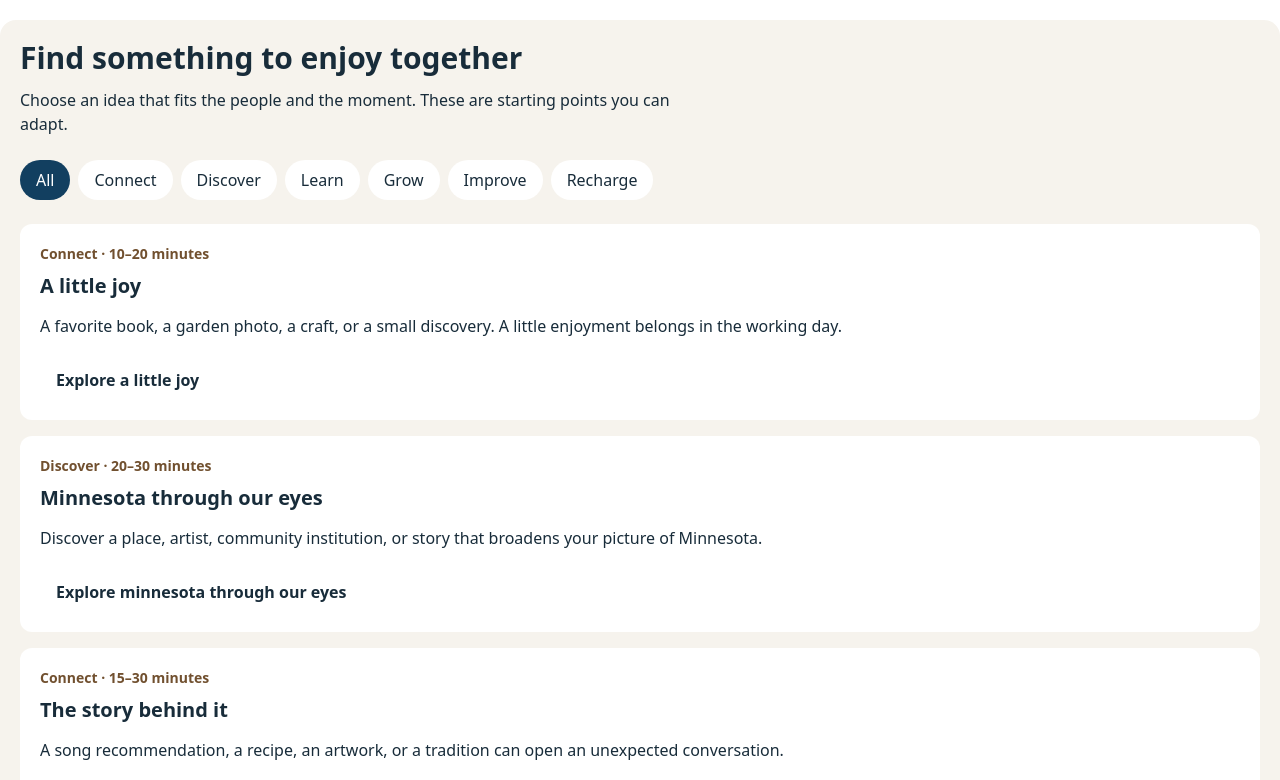
Test case: Amplify tools › filters activities and creates an invitation without inventing event details
The image size is (1280, 780).
Click the button "Grow": coordinates (404, 180) [368,160,440,200]
(page scrolled)
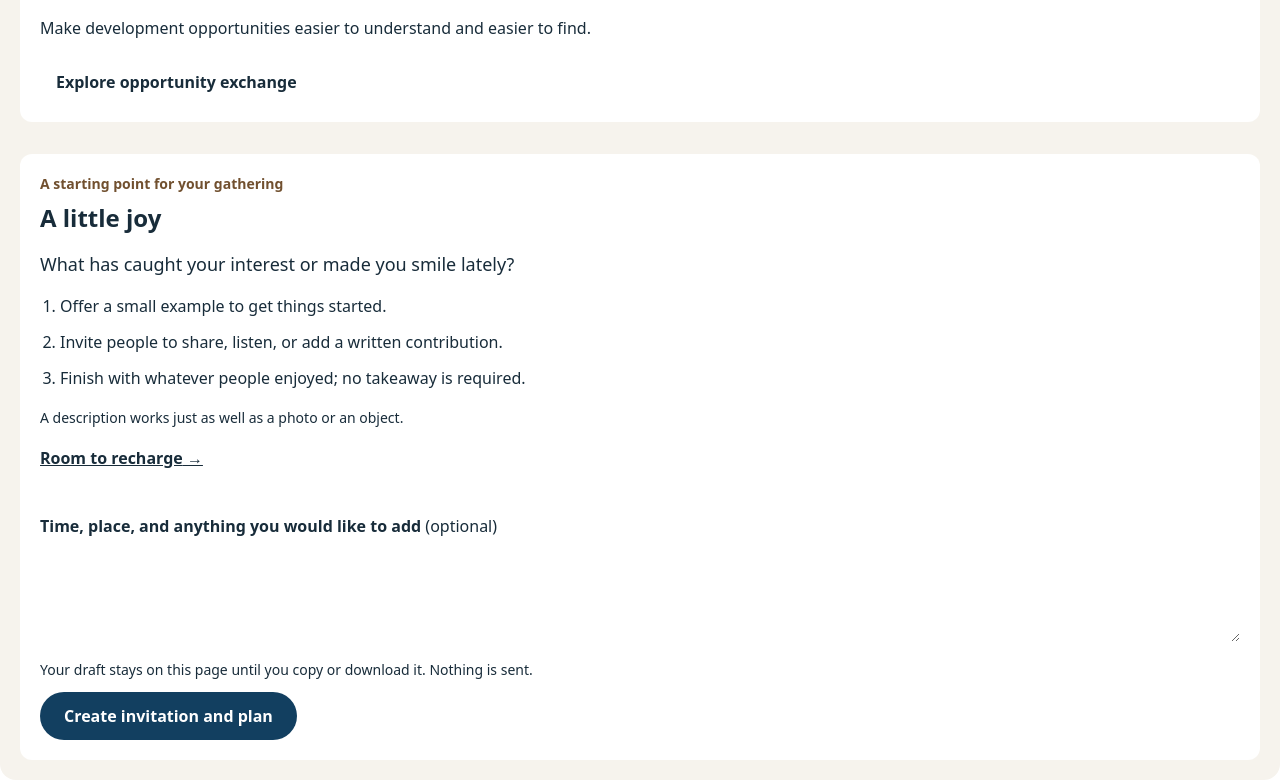
Check: the button "Explore opportunity exchange" is shown, box [40,62,313,102]
Check: the button "Explore a little joy" is gone
Click the button "Create invitation and plan": coordinates (168, 716) [40,692,297,740]
(page scrolled)
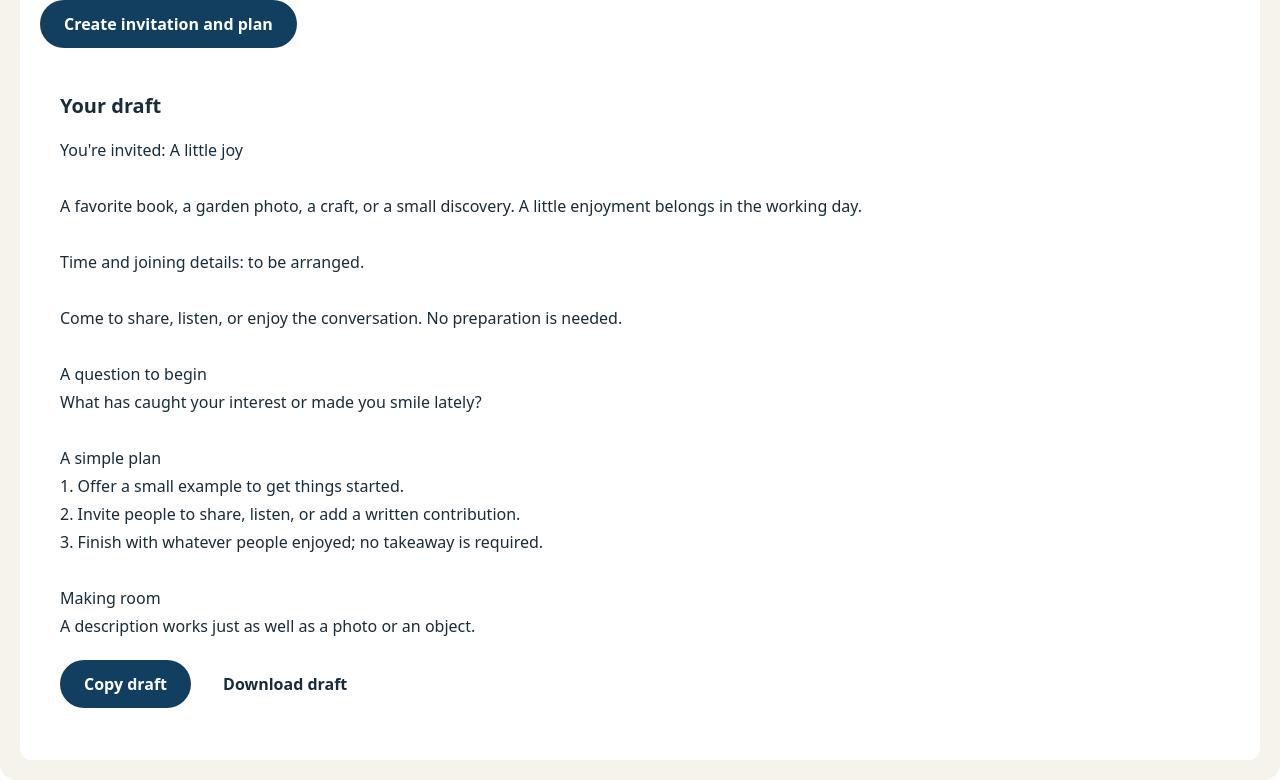
Check: the text "You're invited:" shows "Time and joining details: to be arranged.", box [60,139,862,637]
